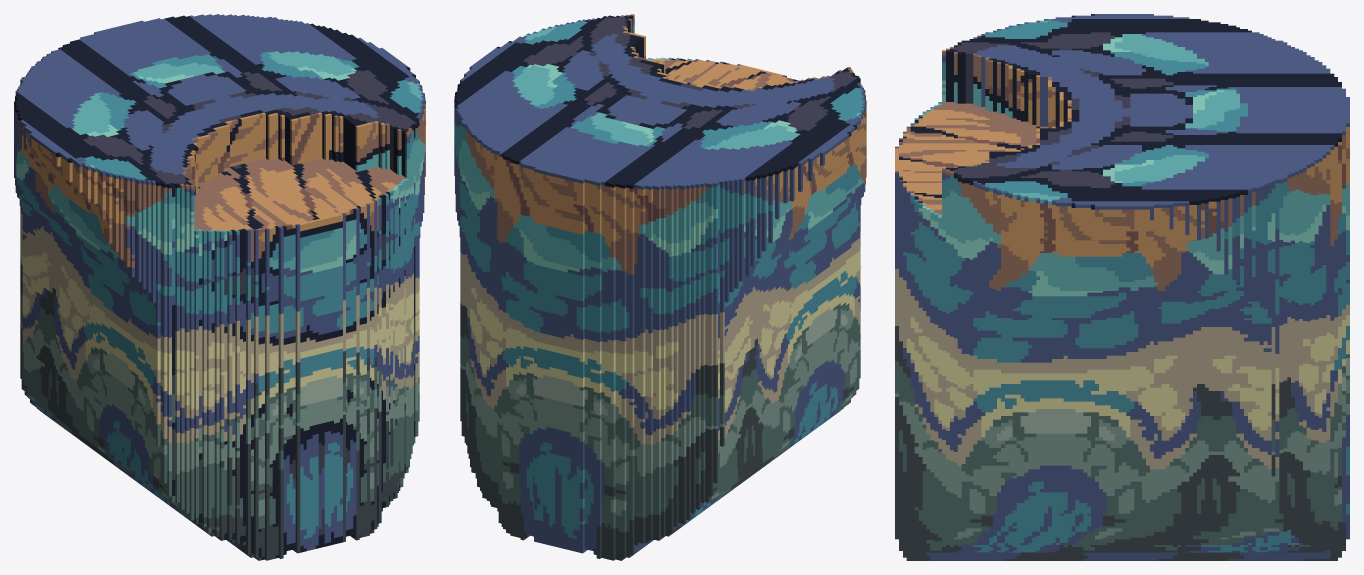
Rendered from Tower.glb.
The picture shows the model from 3 angles, left to right: view 1: azimuth 30°, elevation 25°; view 2: azimuth 150°, elevation 25°; view 3: azimuth 270°, elevation 25°; orthographic projection. The views are drawn at different scales.
Parts seen in each view (by area): view 1: q0; view 2: q0; view 3: q0.
Boxes of the visible parts, x1,y1,x2,y2 form: q0: [14, 14, 425, 560]; q0: [454, 14, 866, 560]; q0: [895, 14, 1349, 560].
Size of the model in its own units: 116 by 118 by 116.
1 material, 1 textured.
